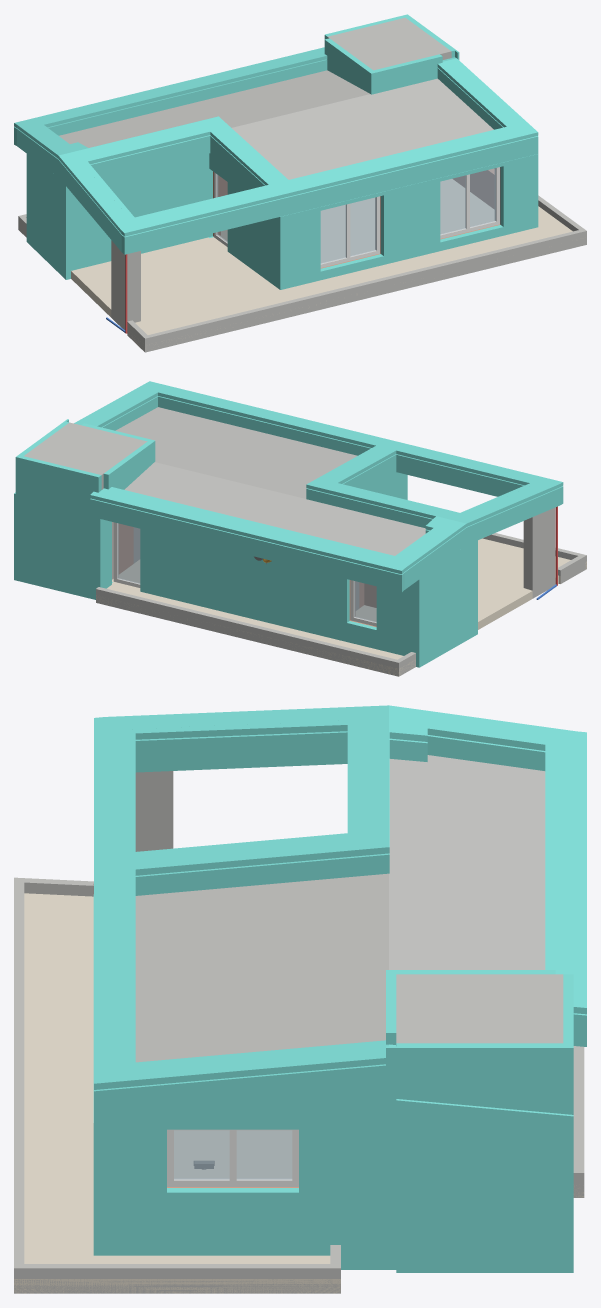
Rendered from HouseEM_AR_AT.glb.
3 views of the same model, one above another, from view 1: azimuth 30°, elevation 25°; view 2: azimuth 150°, elevation 25°; view 3: azimuth 270°, elevation 25° (orthographic). The views are drawn at different scales.
Parts seen in each view (by area): view 1: RF-SLAB, AT-FF01, RF-PARAPET-CAP02, AT-PP01, RF-PARAPET-ET10, AT-ET07, AT-ET10, AT-ET06, RF-LIFT-TOP, AT-ET12, RF-PARAPET-ET01, AT-EO05 (+17 smaller); view 2: RF-SLAB, RF-PARAPET-CAP02, AT-ET11, AT-ET03, AT-FF01, RF-PARAPET-ET11, AT-PP02, AT-ET06, RF-LIFT-TOP, AT-ET05, RF-LIFT-ET05, RF-PARAPET-ET12 (+17 smaller); view 3: RF-SLAB, RF-PARAPET-CAP02, AT-FF01, AT-ET02, AT-ET01, AT-PP01, RF-LIFT-TOP, RF-LIFT-ET04, AT-ET08, RF-PARAPET-ET13, AT-EO03-SILL-ET, RF-PARAPET-ET18 (+12 smaller).
Part boxes in pixels (left/top/right/bottom): RF-SLAB: left=59, top=70, right=493, bottom=179; AT-FF01: left=71, top=179, right=572, bottom=350; RF-PARAPET-CAP02: left=14, top=47, right=538, bottom=236; AT-PP01: left=127, top=195, right=586, bottom=352; RF-PARAPET-ET10: left=121, top=136, right=538, bottom=254; AT-ET07: left=71, top=153, right=212, bottom=270; AT-ET10: left=381, top=178, right=440, bottom=264; AT-ET06: left=29, top=155, right=70, bottom=279; RF-LIFT-TOP: left=327, top=17, right=451, bottom=70; AT-ET12: left=227, top=169, right=285, bottom=289; RF-PARAPET-ET01: left=47, top=59, right=327, bottom=135; AT-EO05: left=320, top=197, right=376, bottom=263; RF-SLAB: left=115, top=407, right=425, bottom=555; RF-PARAPET-CAP02: left=79, top=381, right=563, bottom=574; AT-ET11: left=140, top=529, right=349, bottom=641; AT-ET03: left=19, top=495, right=95, bottom=599; AT-FF01: left=96, top=538, right=586, bottom=676; RF-PARAPET-ET11: left=90, top=498, right=404, bottom=592; AT-PP02: left=96, top=587, right=415, bottom=676; AT-ET06: left=423, top=540, right=477, bottom=665; RF-LIFT-TOP: left=24, top=422, right=147, bottom=481; AT-ET05: left=376, top=577, right=422, bottom=667; RF-LIFT-ET05: left=20, top=456, right=101, bottom=511; RF-PARAPET-ET12: left=422, top=487, right=560, bottom=576; RF-SLAB: left=135, top=755, right=545, bottom=1062; RF-PARAPET-CAP02: left=94, top=705, right=586, bottom=1089; AT-FF01: left=14, top=893, right=584, bottom=1293; AT-ET02: left=396, top=1099, right=573, bottom=1272; AT-ET01: left=299, top=1097, right=396, bottom=1269; AT-PP01: left=14, top=877, right=340, bottom=1293; RF-LIFT-TOP: left=396, top=974, right=563, bottom=1043; RF-LIFT-ET04: left=396, top=1043, right=573, bottom=1114; AT-ET08: left=93, top=1116, right=166, bottom=1255; RF-PARAPET-ET13: left=104, top=1064, right=385, bottom=1121; AT-EO03-SILL-ET: left=167, top=1188, right=298, bottom=1255; RF-PARAPET-ET18: left=135, top=731, right=347, bottom=772.
Size of the model in its own units: 13.3 by 3.55 by 8.24.
